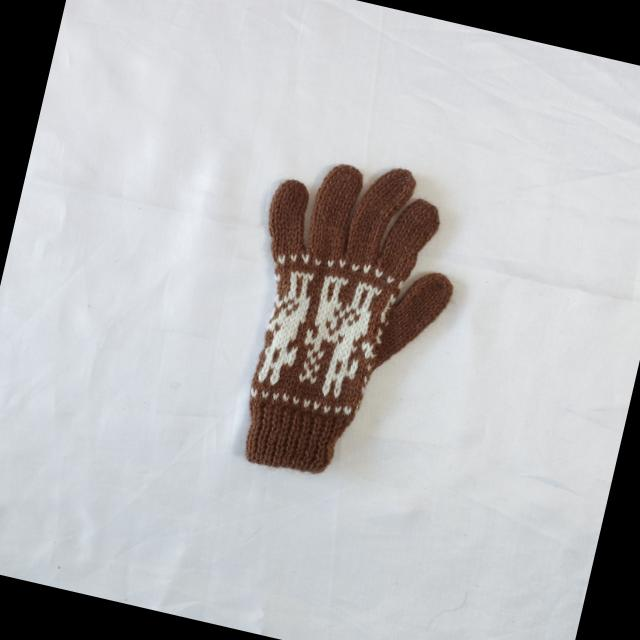Guante: (210, 141, 478, 500)
